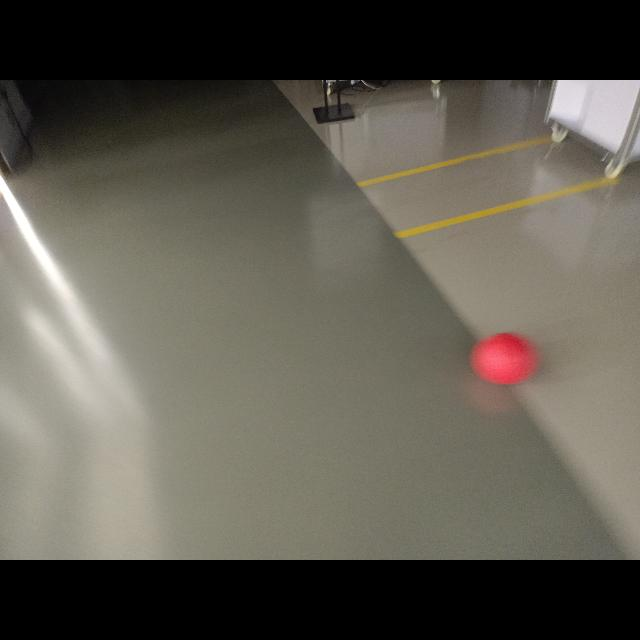R: (469, 332, 536, 383)
